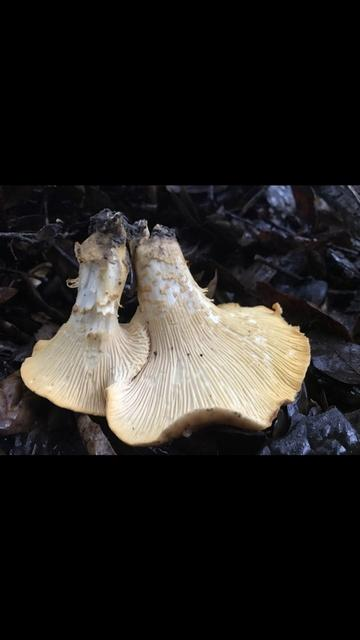Edible Mushroom: (103, 221, 311, 447), (19, 207, 150, 416)
